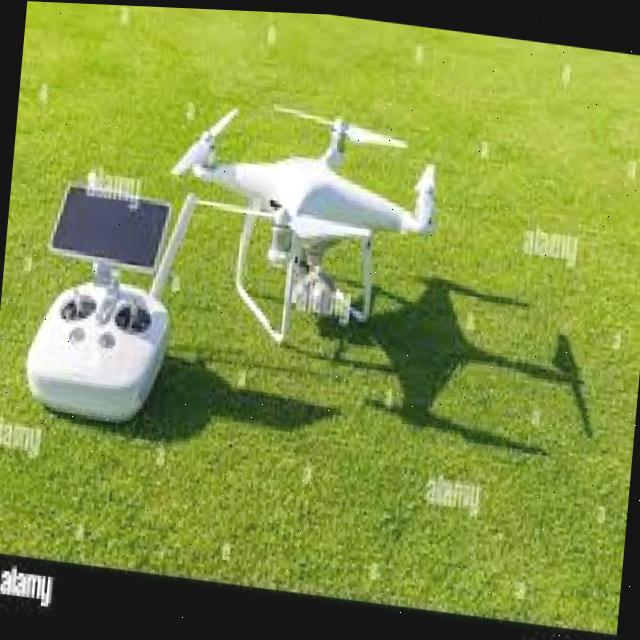drone: (152, 66, 456, 368)
